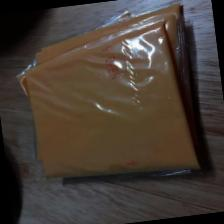cheese: (18, 16, 202, 189)
